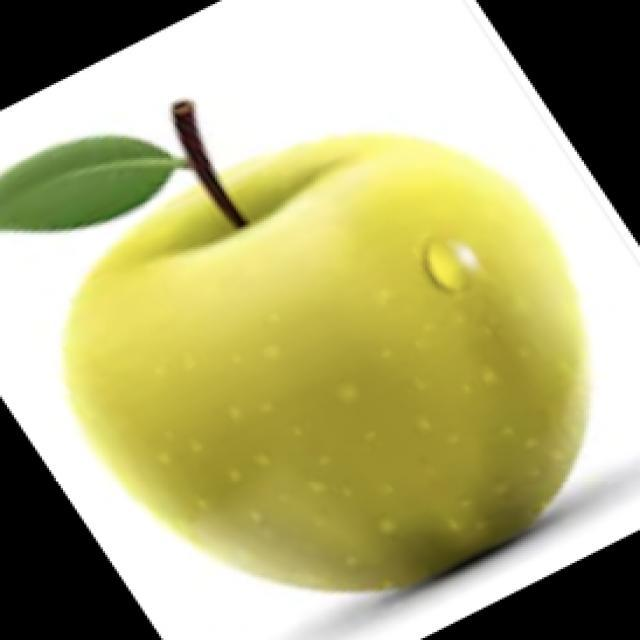Fresh Apple: (55, 126, 575, 582)
